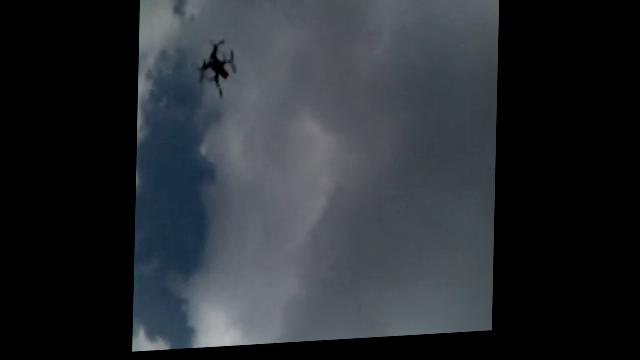drone: (194, 36, 240, 103)
